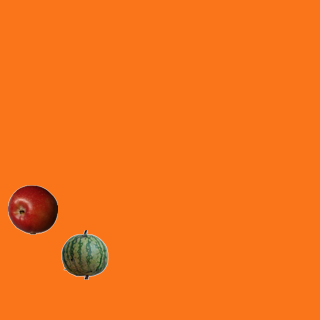Apple Braeburn: (7, 184, 57, 234)
Watermelon: (59, 229, 109, 279)
